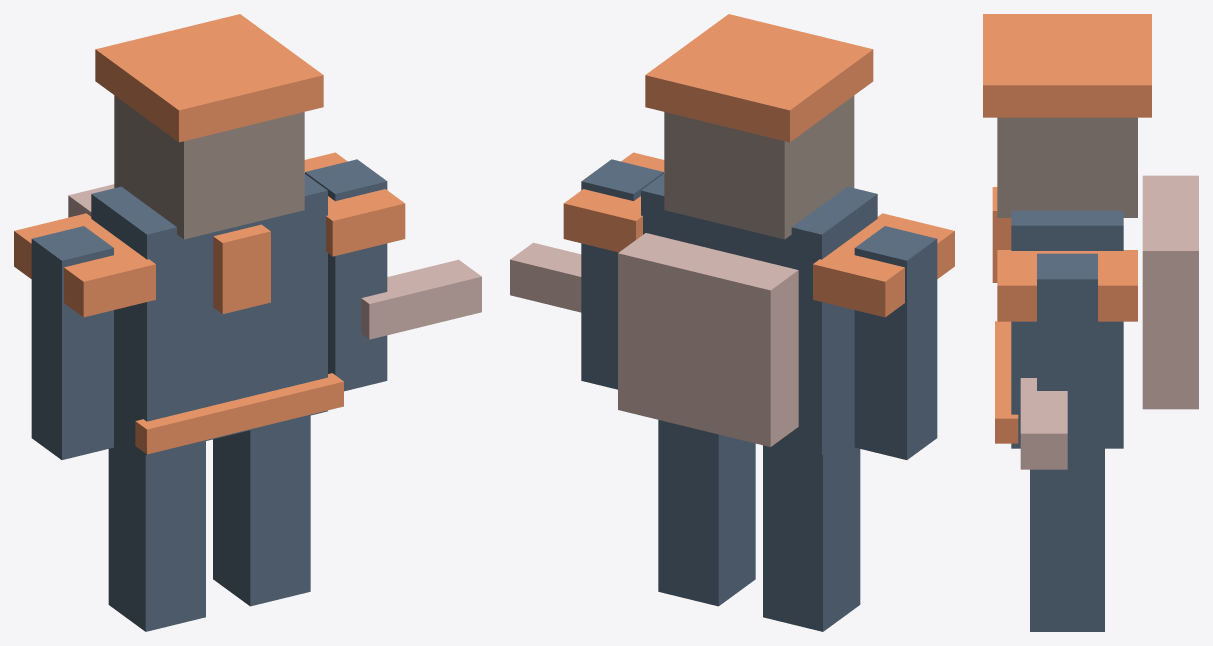
File: 02_soren_deepwell_specialist_near_quantum.glb
3 renders of one model, left to right at view 1: azimuth 30°, elevation 25°; view 2: azimuth 150°, elevation 25°; view 3: azimuth 270°, elevation 25°, orthographic.
Parts seen in each view (by area): view 1: Soren Deepwell, Specialist near Quantum; view 2: Soren Deepwell, Specialist near Quantum; view 3: Soren Deepwell, Specialist near Quantum.
Boxes of the visible parts, left/top/right/bottom form: Soren Deepwell, Specialist near Quantum: left=14, top=14, right=481, bottom=631; Soren Deepwell, Specialist near Quantum: left=510, top=14, right=954, bottom=631; Soren Deepwell, Specialist near Quantum: left=983, top=14, right=1198, bottom=631.
Bounding box in the file's own units: 1.12 × 1.4 × 0.5049.
